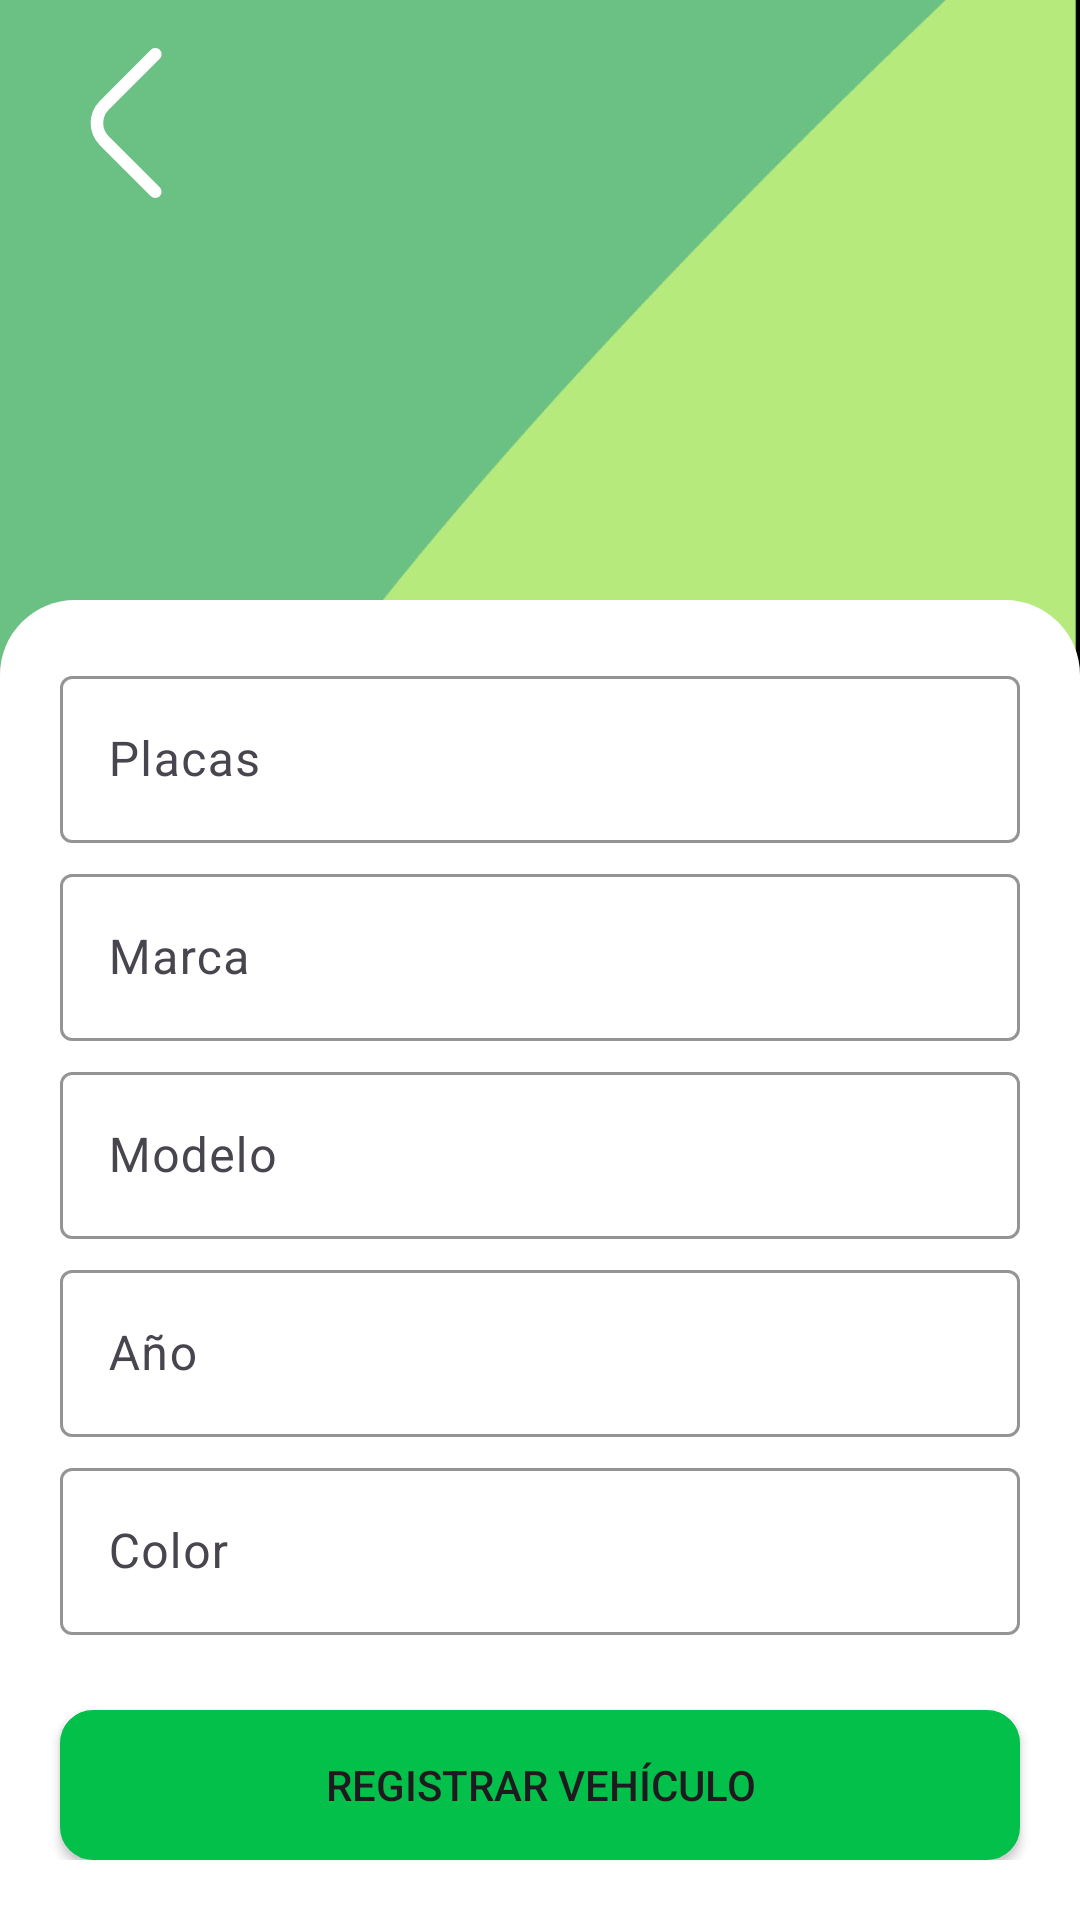

Icon bounding boxes for this 1080px x 1920px phone screenshot, format (x1, y1, x2, y2):
angle left: (90, 48, 162, 198)
